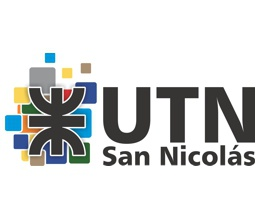utn: (27, 83, 89, 159)
